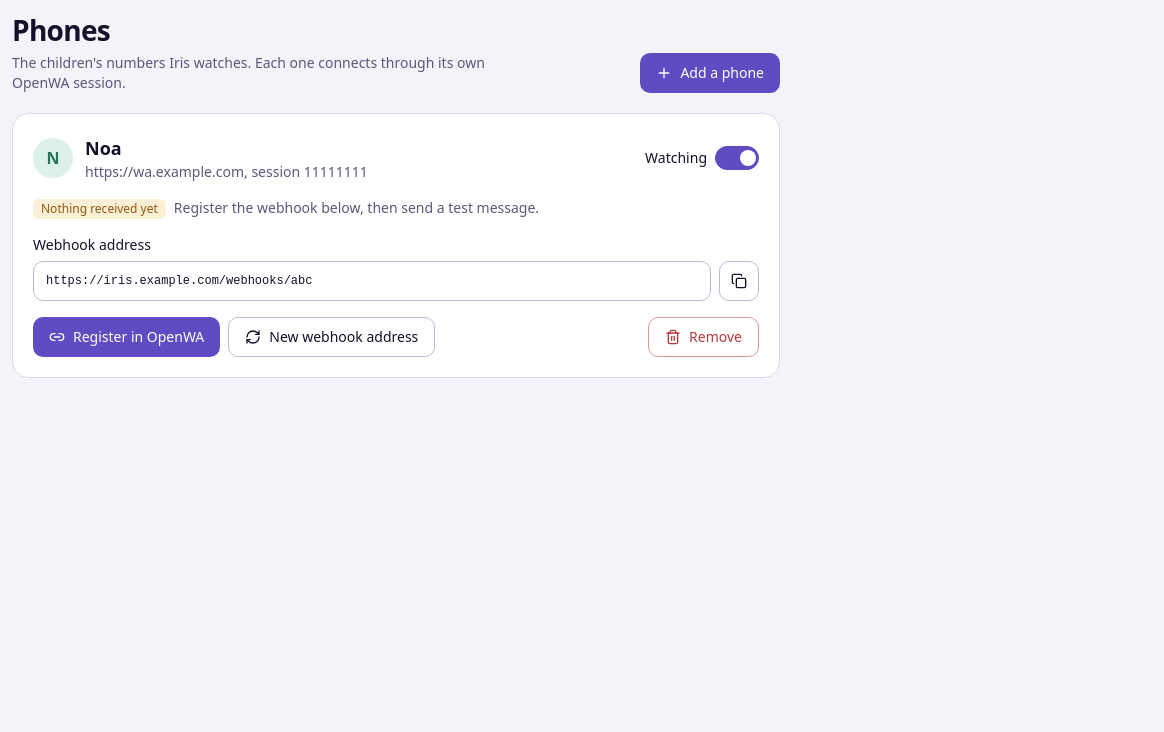
Test: pausing a phone sends enabled false and confirms what changed
This screenshot has width=1164, height=732.
Click the switch named "Watch Noa".
click(737, 158)  # box left=715, top=146, right=759, bottom=170
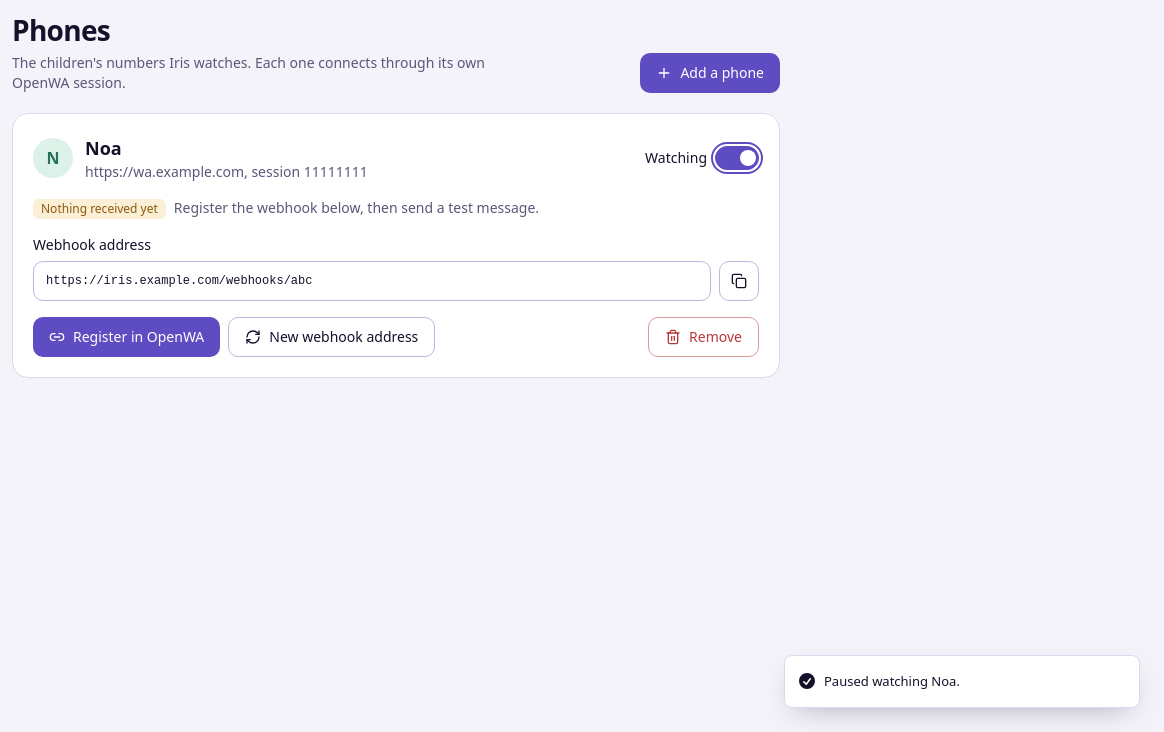
Expected: the text "Paused watching Noa." is shown, left=824, top=672, right=960, bottom=691
